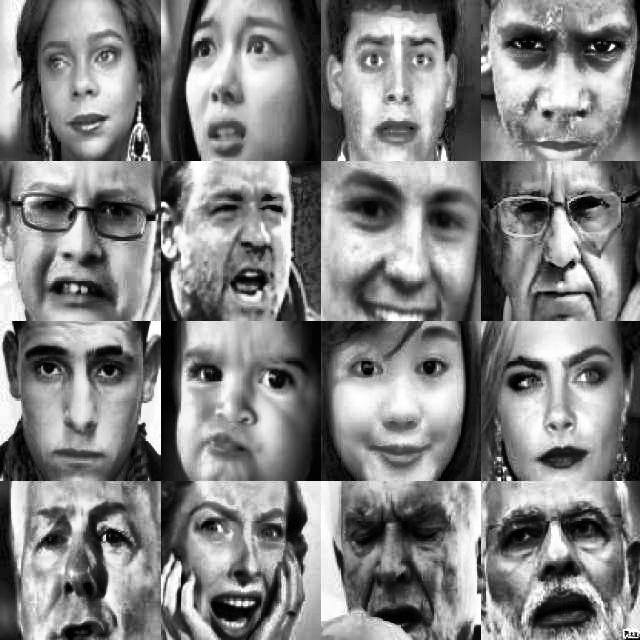angry: (328, 494, 479, 640), (488, 9, 630, 157), (10, 169, 152, 317), (12, 493, 154, 636), (175, 166, 299, 308), (178, 340, 306, 466)
fear: (176, 494, 304, 631), (191, 6, 299, 158), (339, 15, 456, 155)
happy: (322, 165, 482, 323), (485, 325, 636, 476), (19, 5, 145, 162), (325, 337, 469, 468)
neutral: (486, 479, 640, 639), (493, 171, 625, 313), (15, 339, 149, 471)
